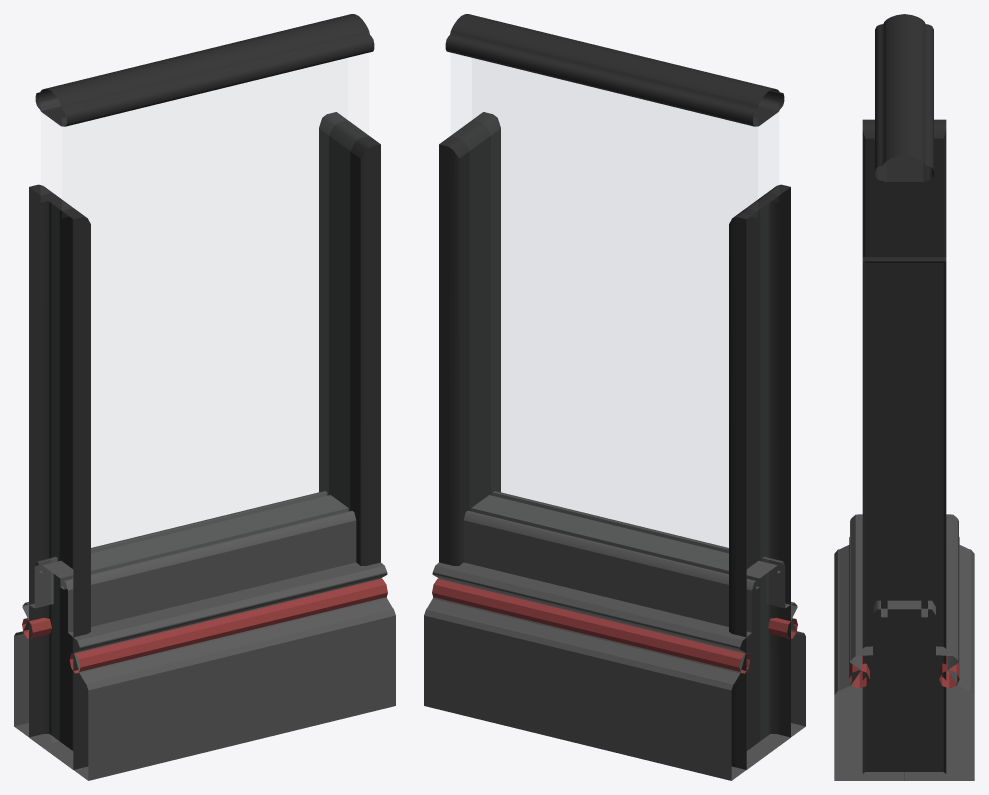
The model's file is BarrierHalf.fbx.
3 renders of one model, left to right at view 1: azimuth 30°, elevation 25°; view 2: azimuth 150°, elevation 25°; view 3: azimuth 270°, elevation 25°, orthographic. The views are drawn at different scales.
Visible parts, largest first — view 1: Glass, BaseTrim, polySurface33, polySurface34, Base, HandTrim, GlowRod; view 2: Glass, BaseTrim, polySurface33, polySurface34, Base, HandTrim, GlowRod; view 3: polySurface34, BaseTrim, HandTrim, polySurface33, GlowRod, Base.
Boxes of the visible parts, box(x1,y1,x2,y2) form: Glass: box(62, 58, 347, 552); BaseTrim: box(14, 562, 395, 780); polySurface33: box(29, 184, 90, 769); polySurface34: box(319, 112, 380, 565); Base: box(34, 491, 356, 632); HandTrim: box(35, 14, 374, 126); GlowRod: box(22, 578, 387, 673); Glass: box(472, 58, 757, 552); BaseTrim: box(424, 562, 805, 780); polySurface33: box(729, 184, 790, 769); polySurface34: box(439, 112, 500, 565); Base: box(463, 491, 785, 632); HandTrim: box(445, 14, 784, 126); GlowRod: box(432, 578, 797, 673); polySurface34: box(862, 257, 946, 780); BaseTrim: box(834, 514, 974, 780); HandTrim: box(875, 14, 933, 181); polySurface33: box(862, 119, 946, 256); GlowRod: box(849, 537, 959, 688); Base: box(873, 600, 935, 617).
Size of the model in its own units: 2 by 4.12 by 0.8378.
